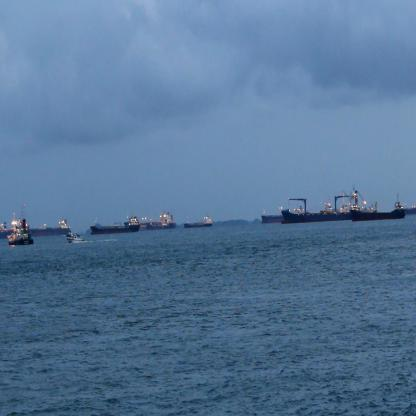Container Ship: (280, 187, 378, 224), (350, 192, 404, 222), (7, 203, 34, 247), (124, 210, 177, 231), (90, 216, 141, 233), (26, 218, 70, 237), (184, 214, 213, 230), (260, 210, 283, 224), (0, 222, 12, 240), (404, 205, 416, 217)
